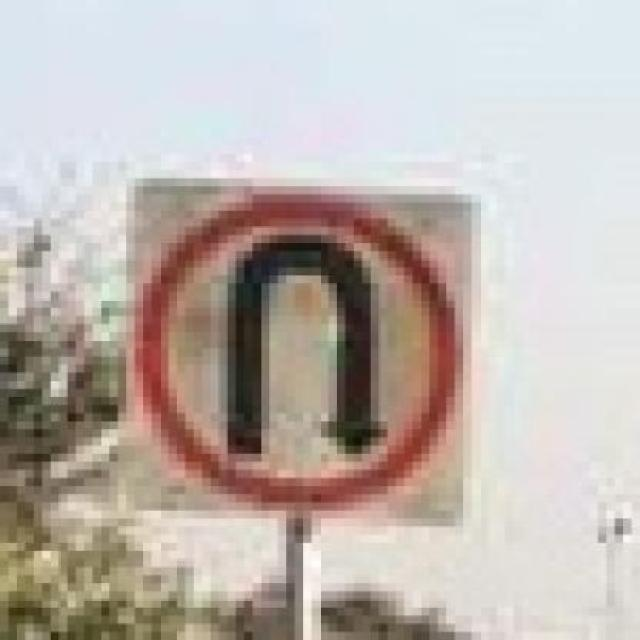u turn: (123, 173, 468, 527)
